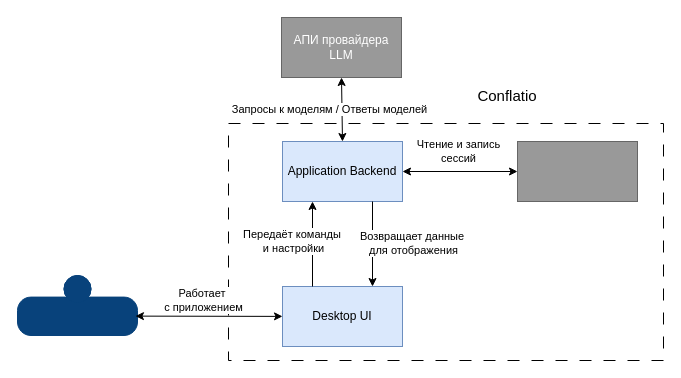
Some shapes in this 681 by 378 pixel diagram are drawn without their labels. The shapes that lost their labels are listed below. From the top down, each one's centre as x and y in pixels, then its label:
At [577,171]: "Session Storage (JSON files)".
At [77,305]: "Пользователь".
